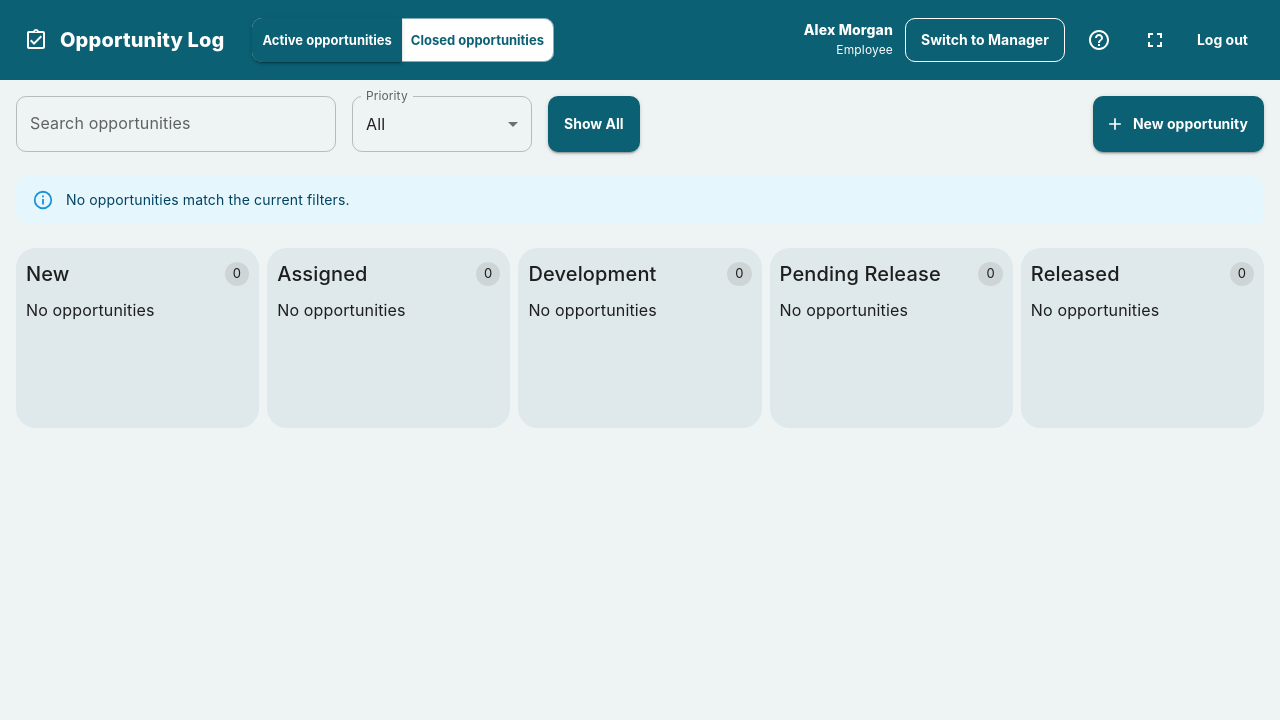
Test: login and application shell › lets an employee self-assign, add a note, and advance assigned work
The image size is (1280, 720).
Click the button "Show All": coordinates (594, 124) [548,96,640,152]
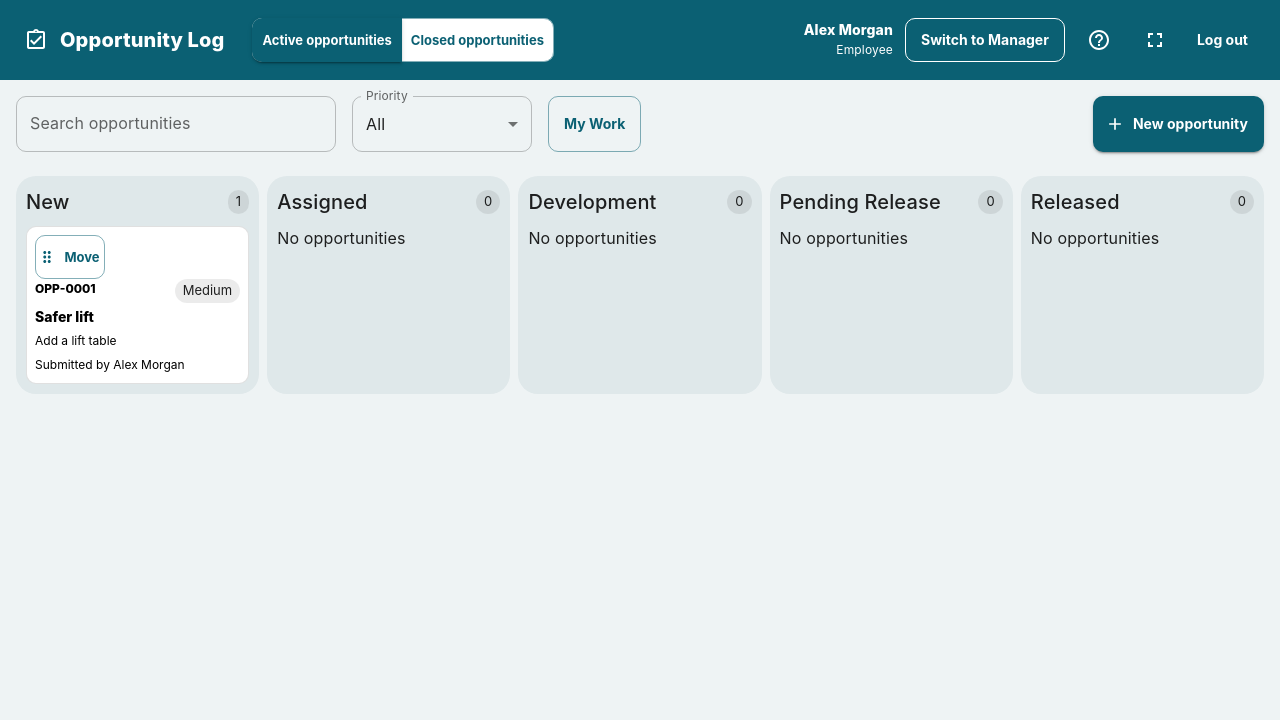
Click the button with aria-label "open OPP-0001": coordinates (138, 327) [35,279,240,375]
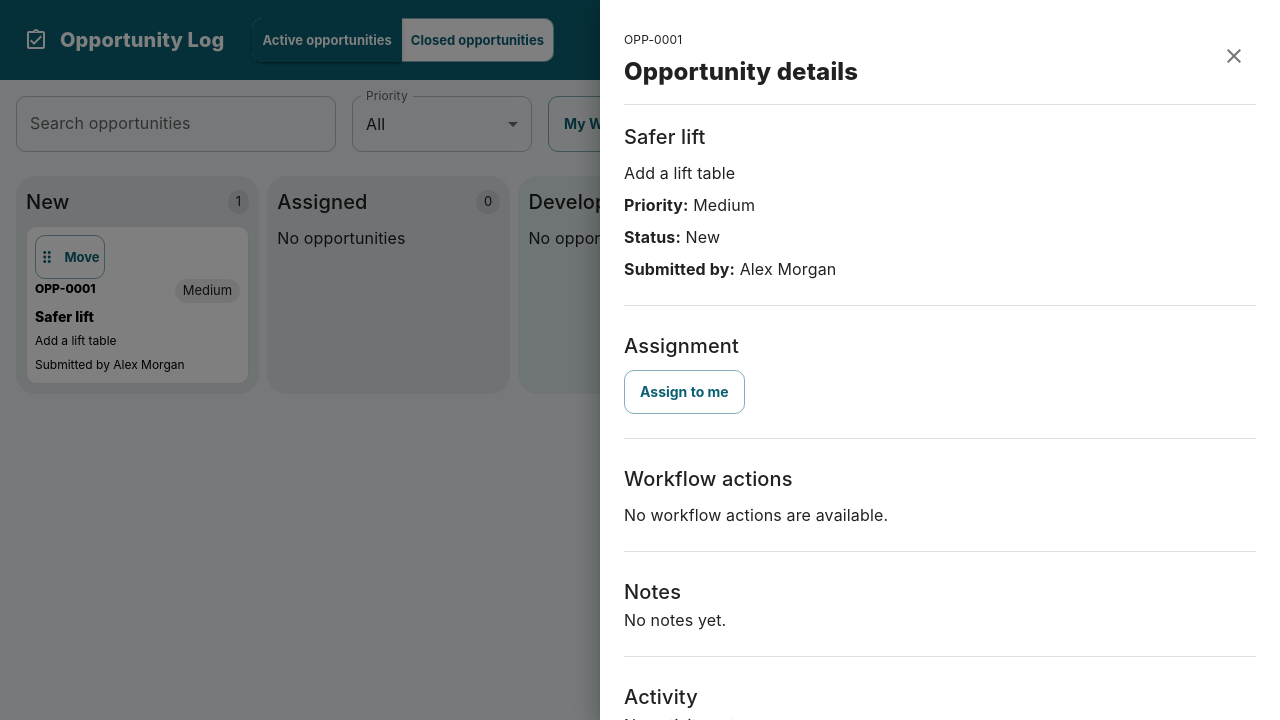
Expected: the dialog "Opportunity details" is shown, [600,0,1279,719]
Click the button "Assign to me": coordinates (684, 392) [624,370,745,414]
(page scrolled)
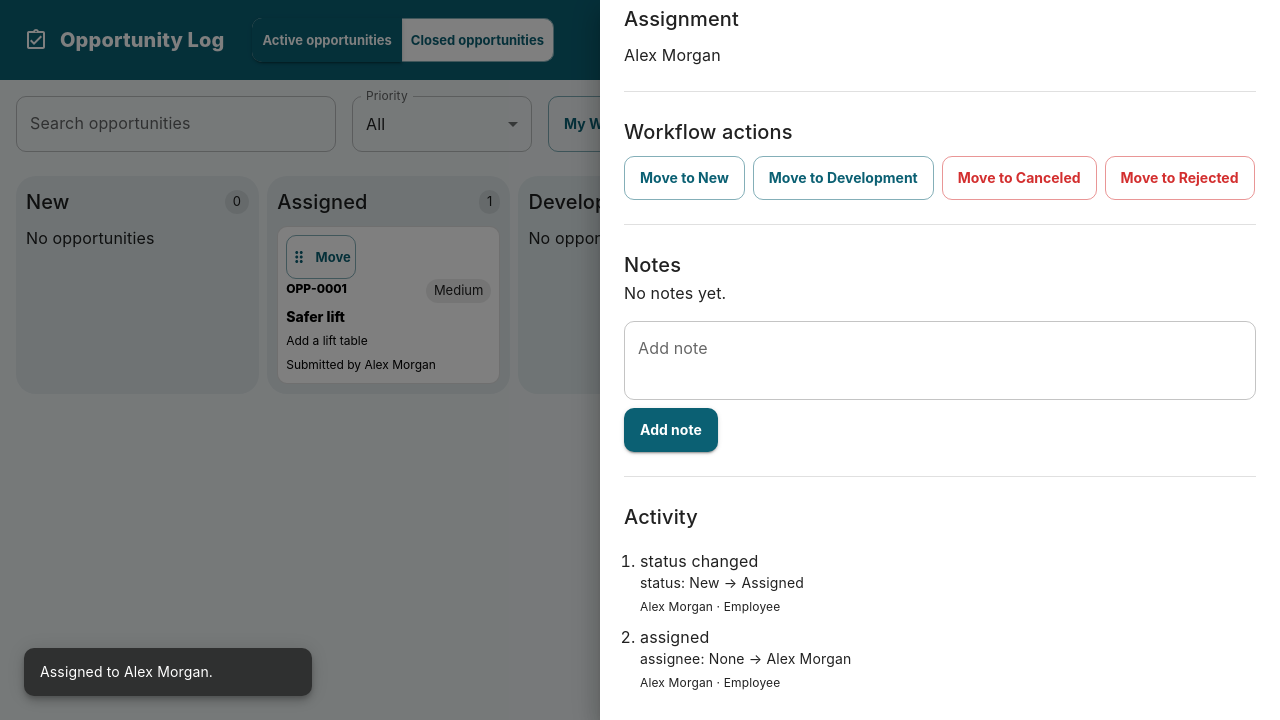
In the text box labelled "Add note": coordinates (940, 360) [638,337,1242,383], type "Checked the work area."
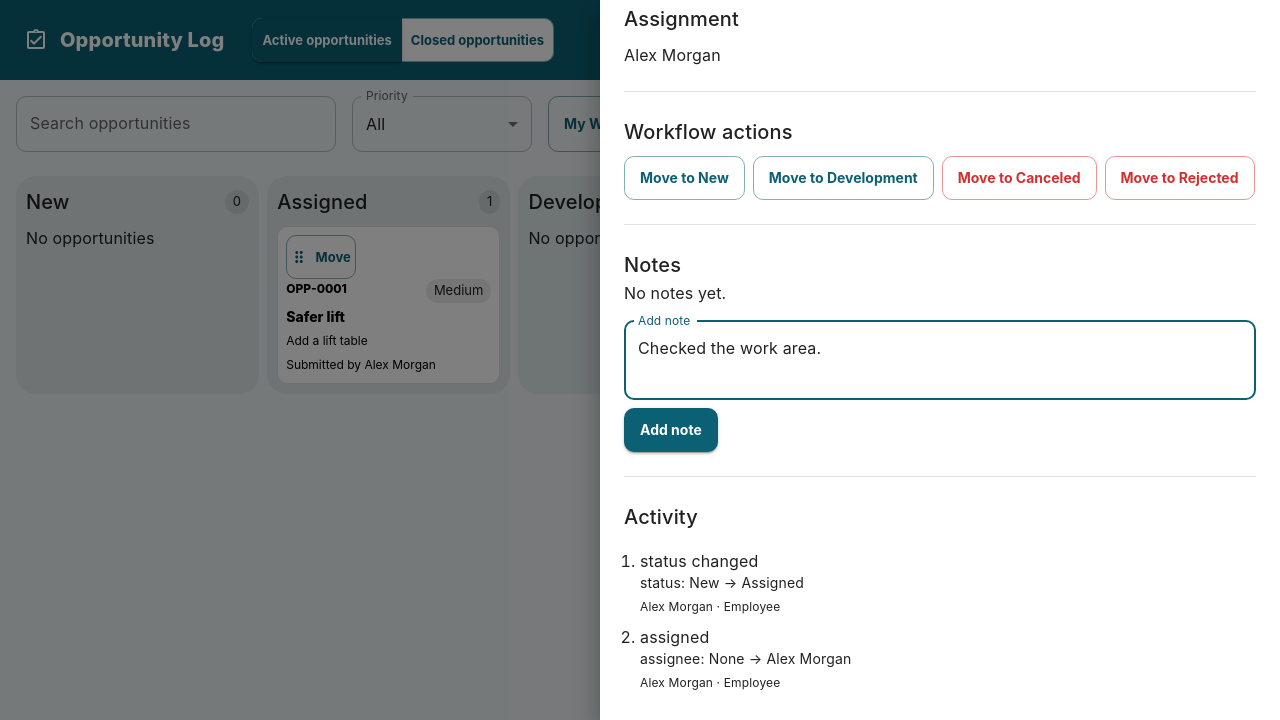
Click the button "Add note": coordinates (671, 430) [624,408,718,452]
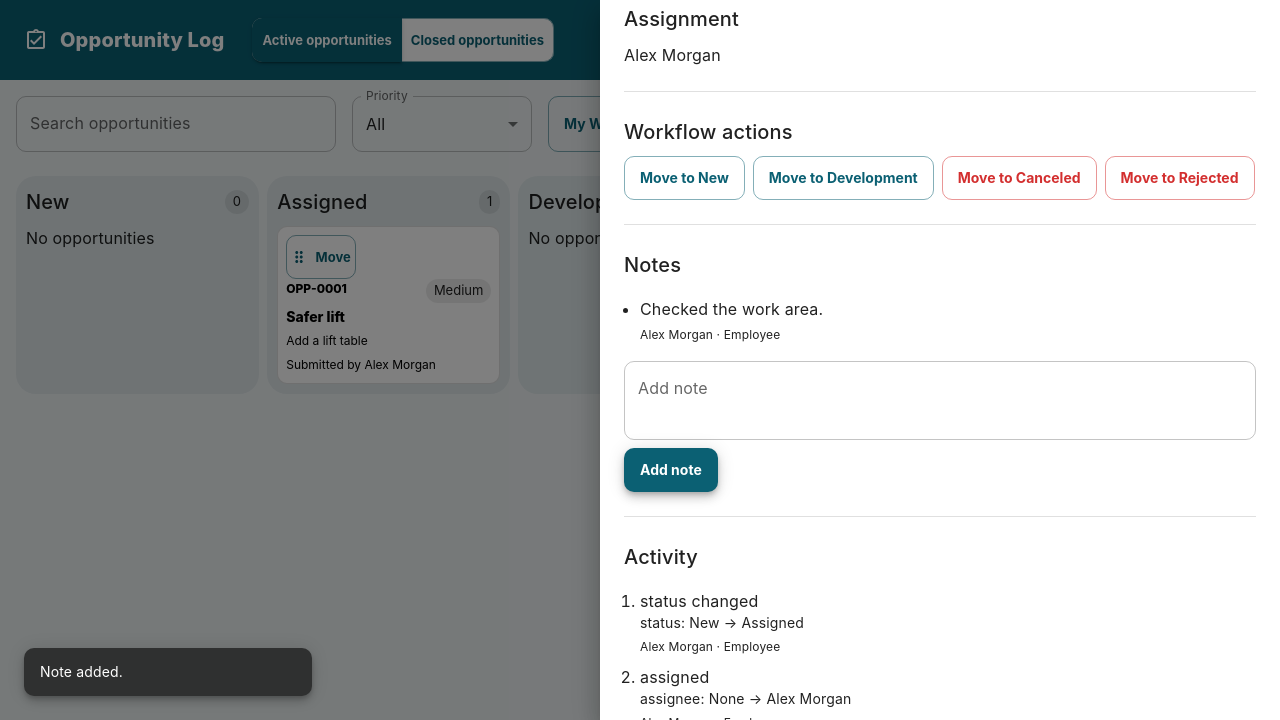
Expected: the text "Checked the work area." is shown, [640,299,823,319]
